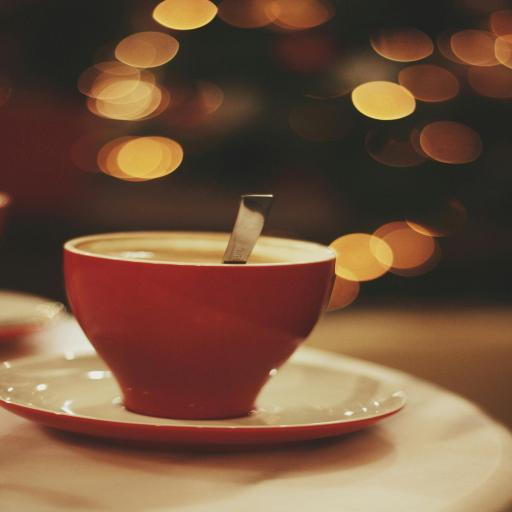cup: (63, 230, 337, 421)
